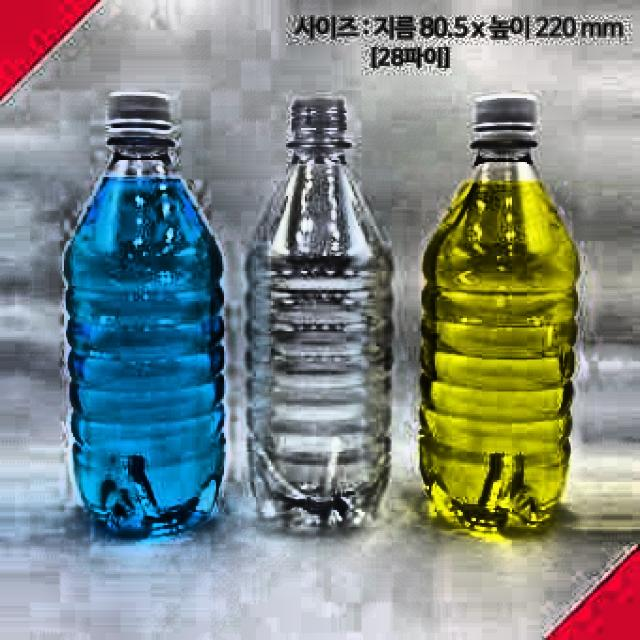plastic bottle: (64, 92, 226, 539), (424, 96, 582, 539), (247, 100, 393, 532)
